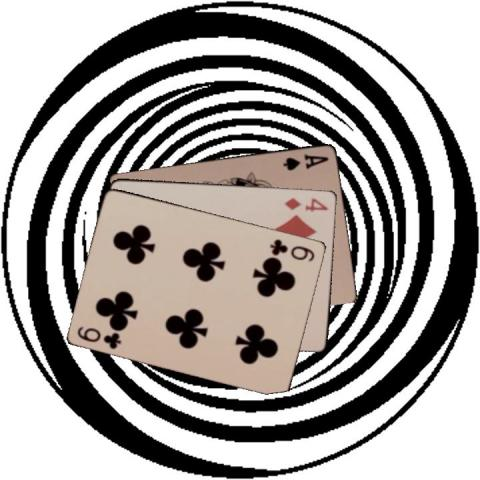4d: (282, 195, 330, 213)
6c: (267, 236, 317, 264), (75, 323, 123, 351)
As: (280, 151, 330, 171)
